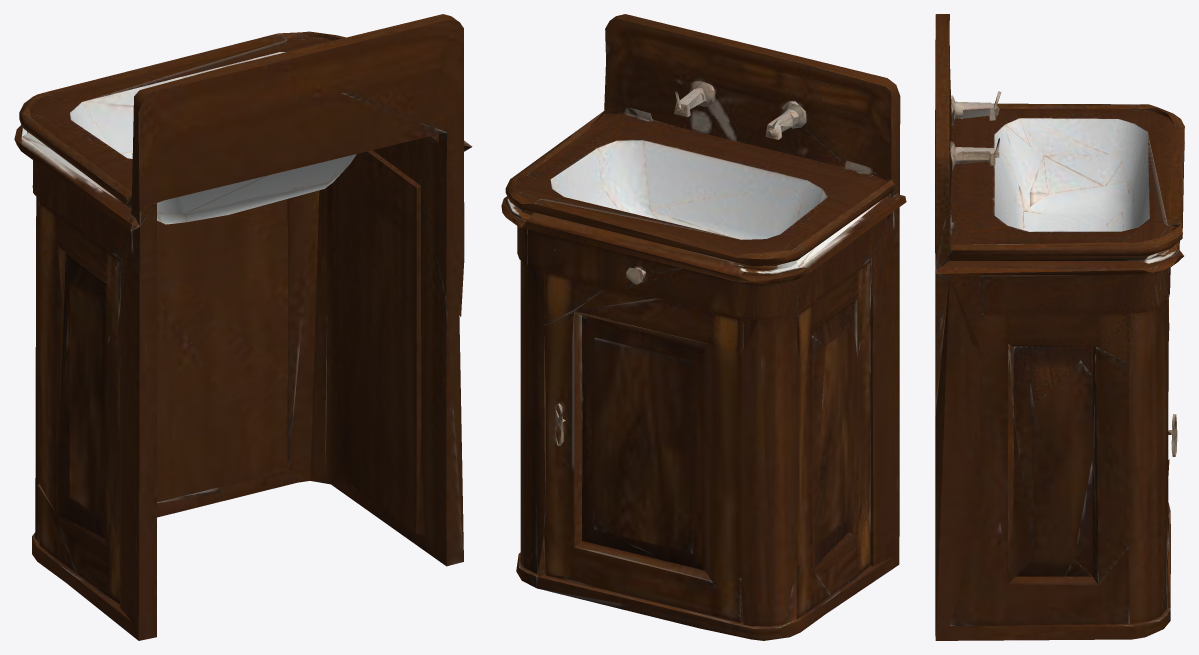
File: mj-folding-lavatory.glb
The picture shows the model from 3 angles, left to right: view 1: azimuth 30°, elevation 25°; view 2: azimuth 150°, elevation 25°; view 3: azimuth 270°, elevation 25°; orthographic projection. The views are drawn at different scales.
Parts seen in each view (by area): view 1: mj-folding-lavatory; view 2: mj-folding-lavatory; view 3: mj-folding-lavatory.
Part boxes in pixels (box(x1,y1,x2,y2)): mj-folding-lavatory: box(14, 14, 472, 640); mj-folding-lavatory: box(501, 14, 906, 640); mj-folding-lavatory: box(935, 14, 1184, 640).
Size of the model in its own units: 0.6886 by 1.05 by 0.4841.
1 material, 1 textured.
